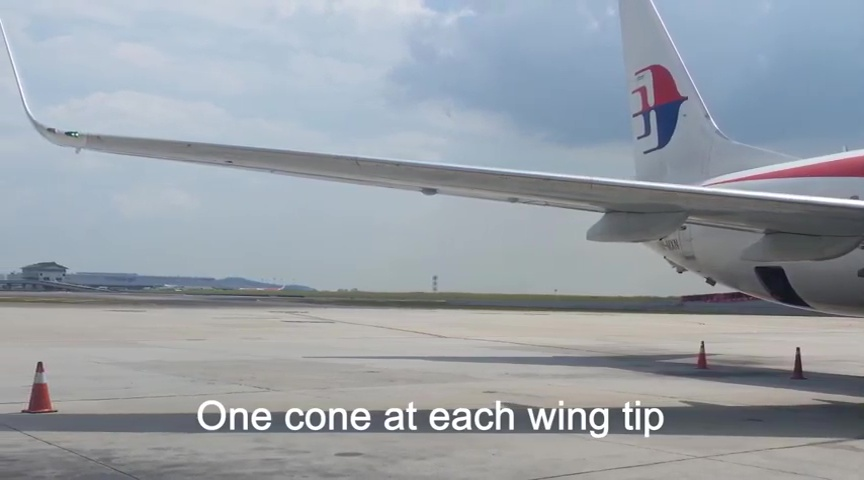safety_cone: (21, 361, 60, 415), (789, 345, 806, 381), (693, 340, 712, 371)
